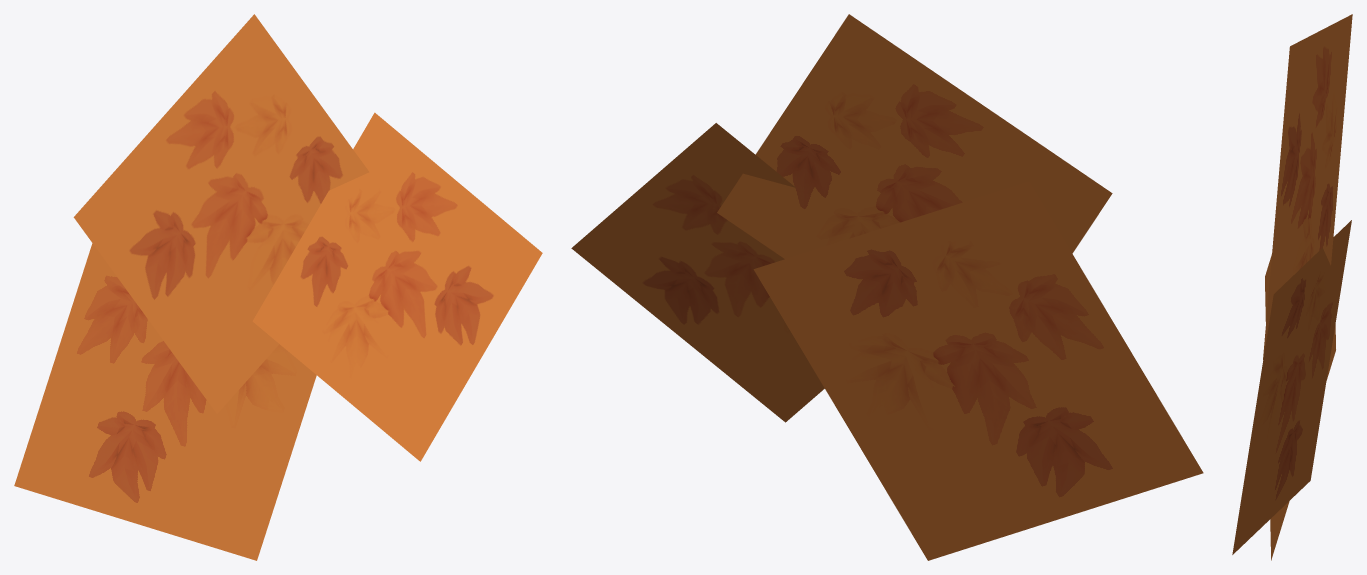
The model's file is SM_Env_Vines_05.fbx.
3 renders of one model, left to right at view 1: azimuth 30°, elevation 25°; view 2: azimuth 150°, elevation 25°; view 3: azimuth 270°, elevation 25°, orthographic. The views are drawn at different scales.
Visible parts, largest first — view 1: SM_Env_Vines_05_LOD0; view 2: SM_Env_Vines_05_LOD0; view 3: SM_Env_Vines_05_LOD0.
Part boxes in pixels (left/top/right/bottom): SM_Env_Vines_05_LOD0: left=14, top=14, right=542, bottom=560; SM_Env_Vines_05_LOD0: left=571, top=14, right=1203, bottom=560; SM_Env_Vines_05_LOD0: left=1232, top=14, right=1352, bottom=560.
Size of what is drawn, in the model's own units: 372 by 331 by 63.8.
